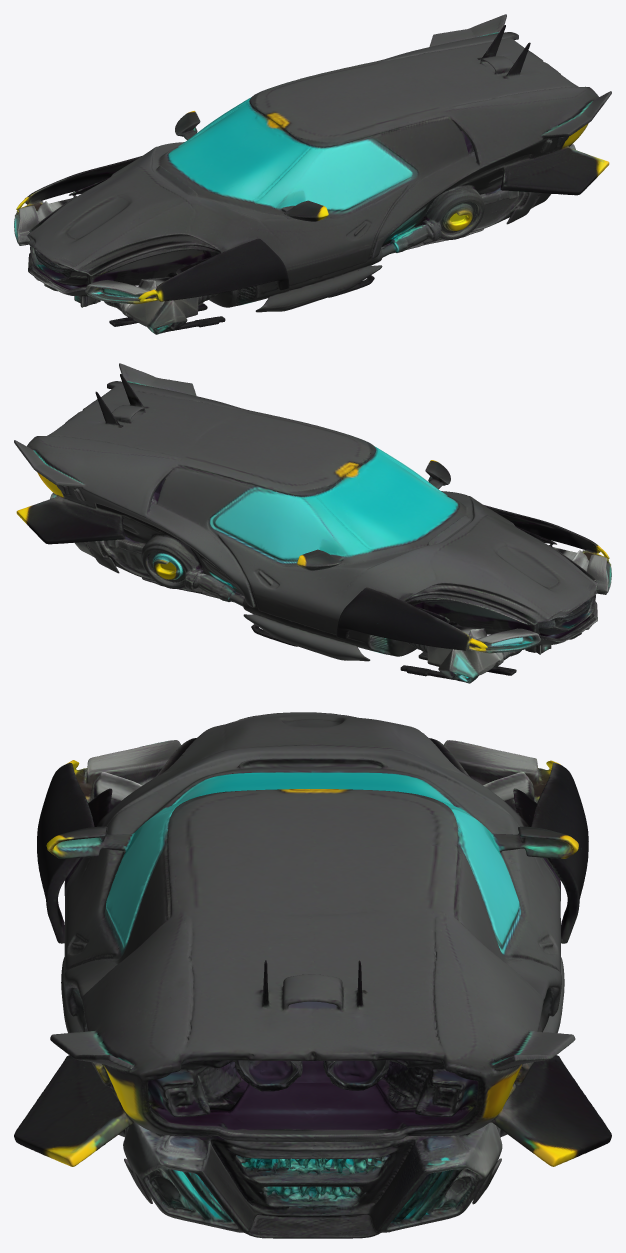
The model's file is auto_flitzer.glb.
The picture shows the model from 3 angles, top to bottom: view 1: azimuth 30°, elevation 25°; view 2: azimuth 150°, elevation 25°; view 3: azimuth 270°, elevation 25°; orthographic projection. The views are drawn at different scales.
Size of the model in its own units: 1.9 by 0.6156 by 0.9746.
Materials: 1 (1 with a texture image).
